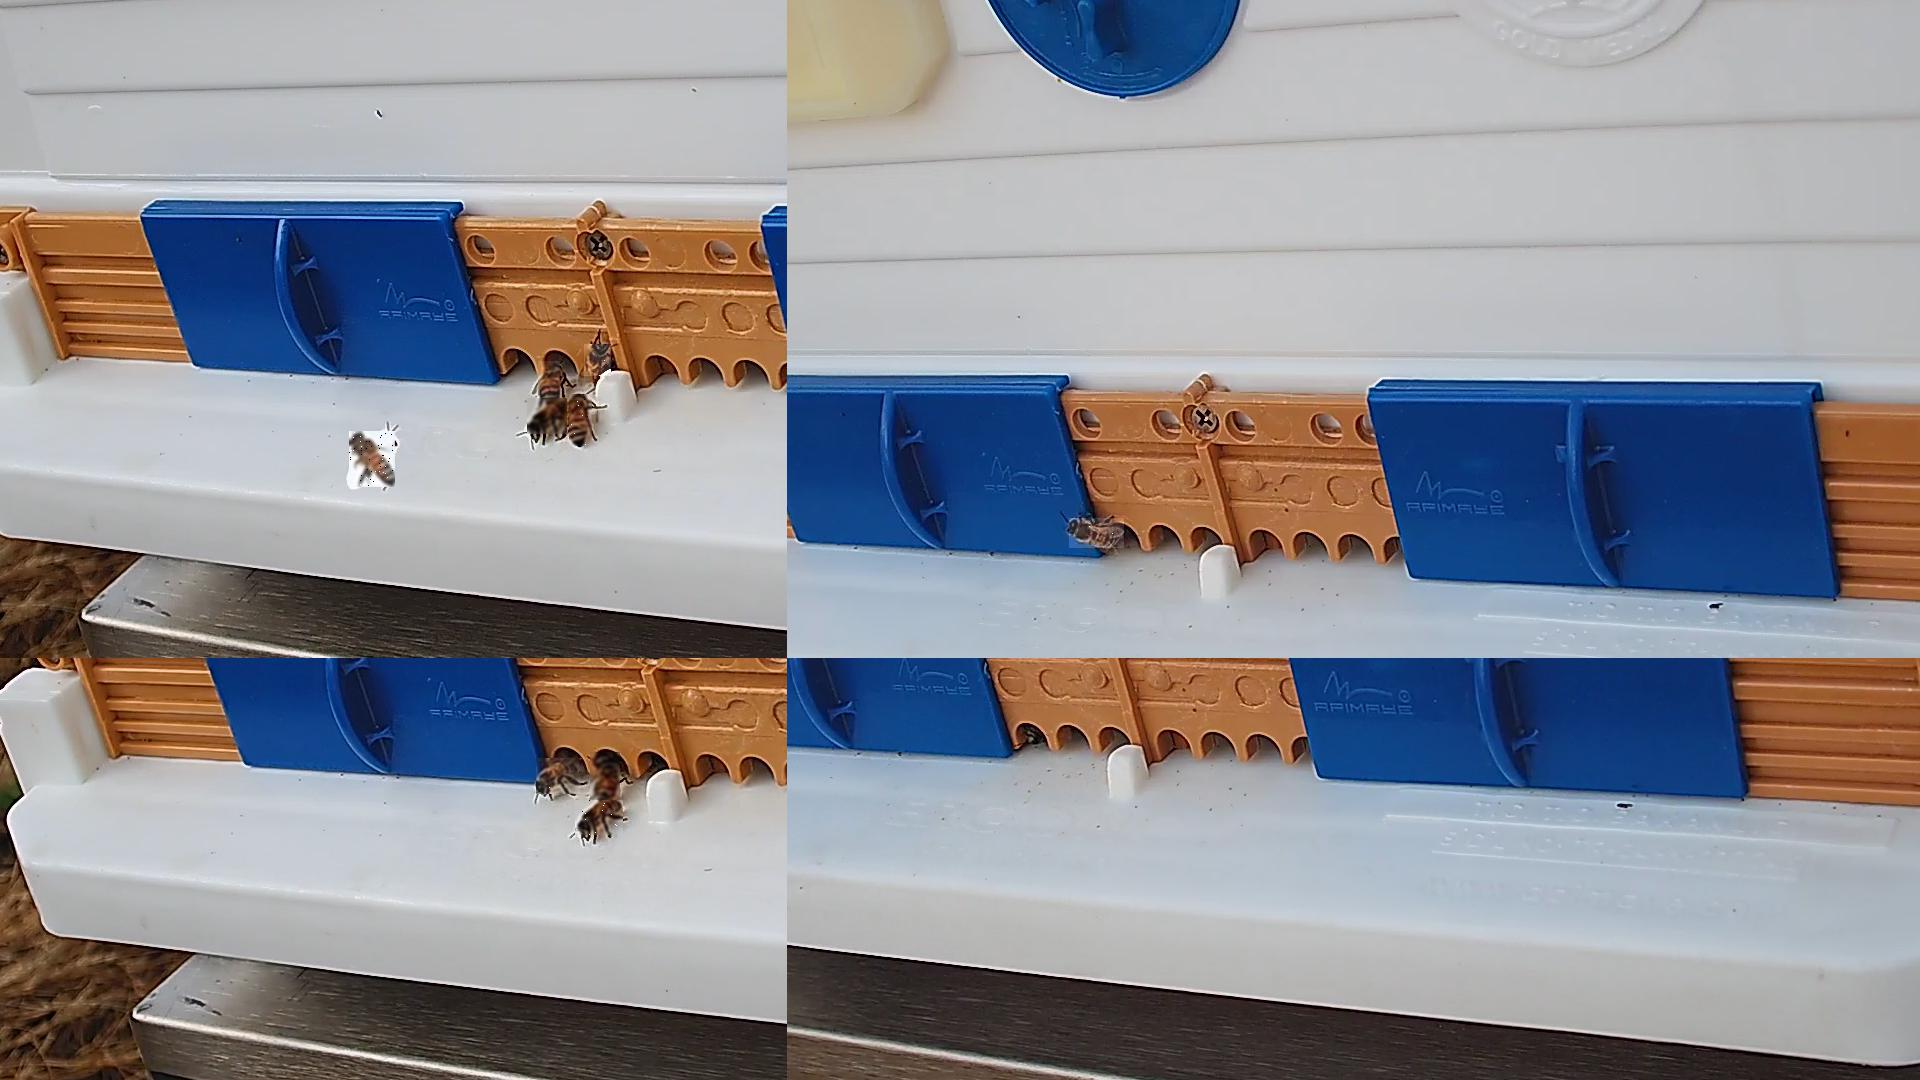bee: (349, 431, 396, 488), (575, 800, 624, 837), (1069, 518, 1125, 550), (537, 758, 584, 795), (589, 752, 621, 803), (527, 400, 568, 436), (570, 394, 593, 447), (584, 344, 612, 380), (538, 361, 562, 400)
